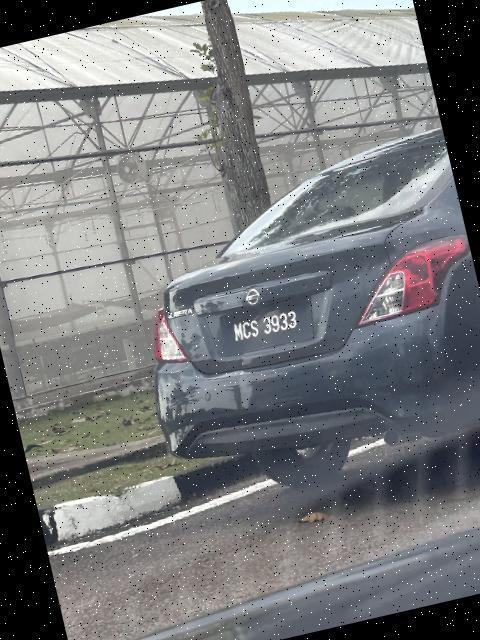License_Plate: (216, 296, 319, 359)
MCS3933: (216, 296, 319, 359)
